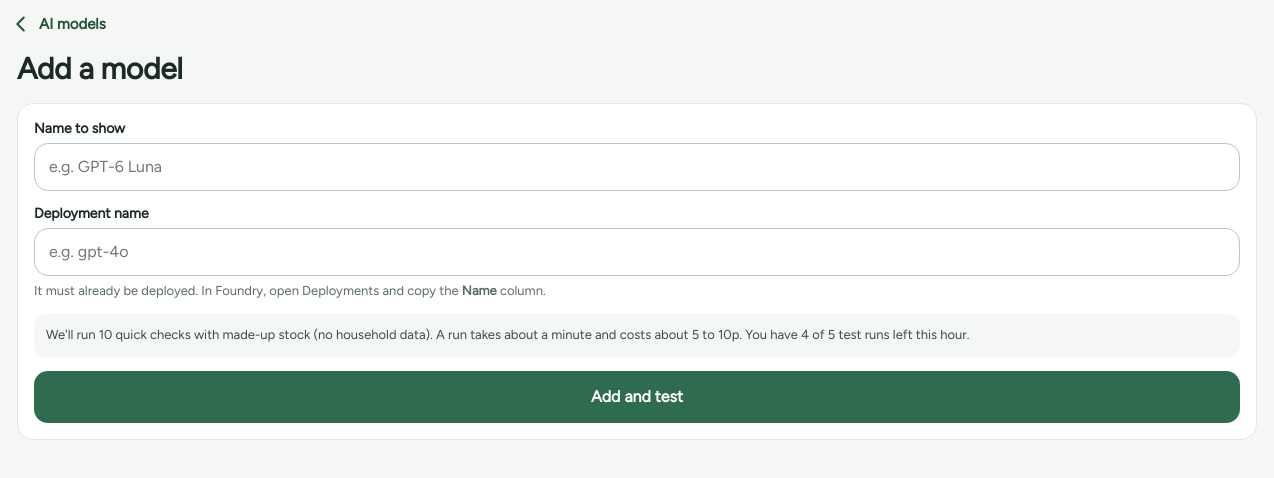
Test: Add a model › a deployment that's already added is refused without asking the API
The image size is (1274, 478).
Expected: the text "test runs left" is shown, x1=742 y1=327 x2=969 y2=342
In the field labelled "Name to show": (637, 166) x1=34 y1=142 x2=1240 y2=190, type "Another"
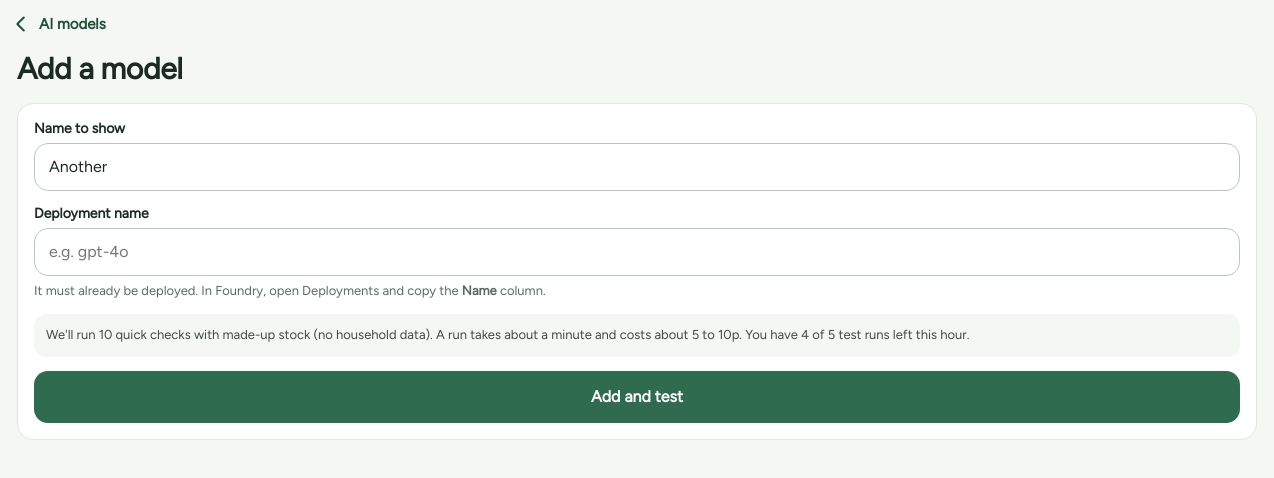
In the field labelled "Deployment name": (637, 252) x1=34 y1=228 x2=1240 y2=276, type "GPT-4O"
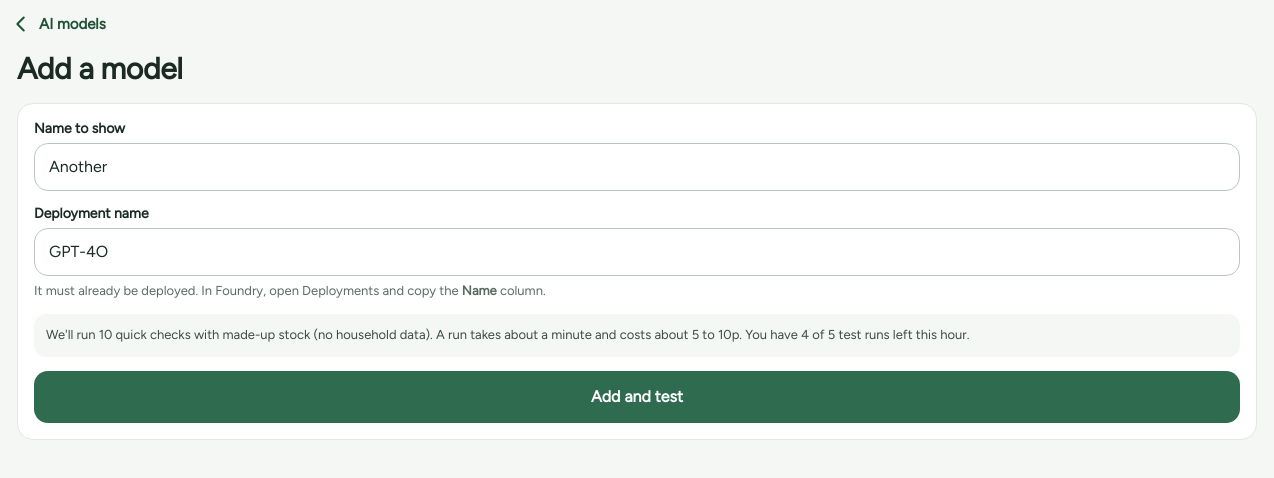
Click the button "Add and test": (637, 396) x1=34 y1=370 x2=1240 y2=422
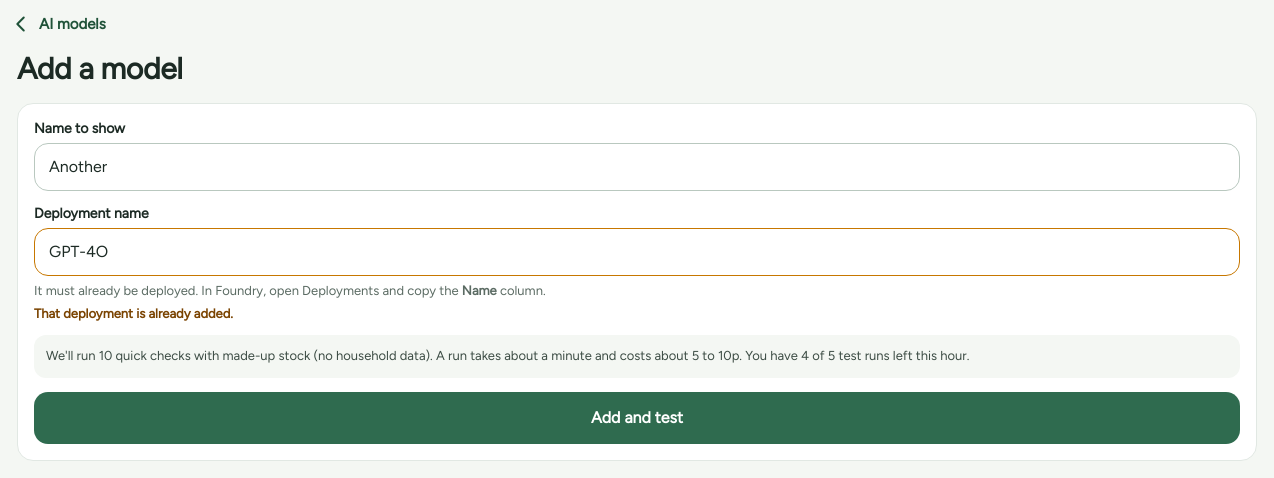
Expected: the message reads "That deployment is already added.", x1=34 y1=306 x2=233 y2=321
